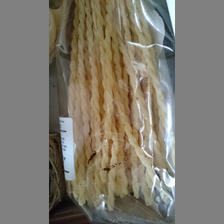pasta: (63, 1, 173, 213)
